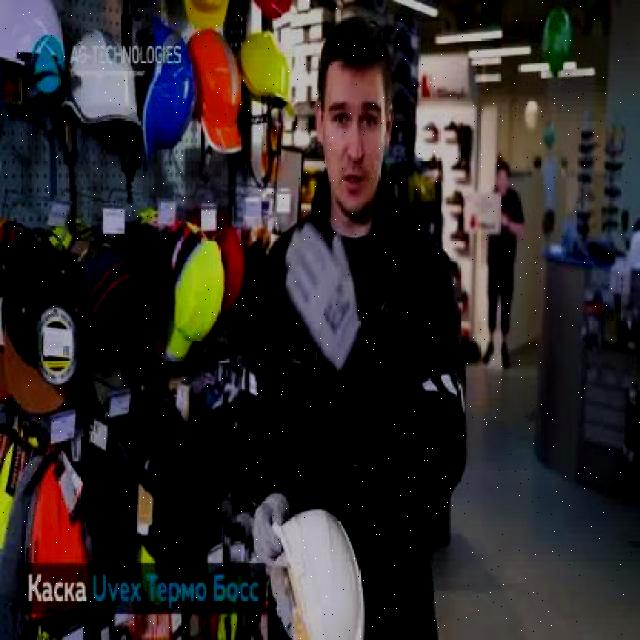Gloves: (279, 220, 361, 374), (254, 492, 288, 576)
Helmet: (270, 504, 368, 638), (60, 26, 143, 134), (140, 17, 196, 165), (186, 27, 245, 155), (0, 0, 71, 74), (240, 32, 294, 118)
